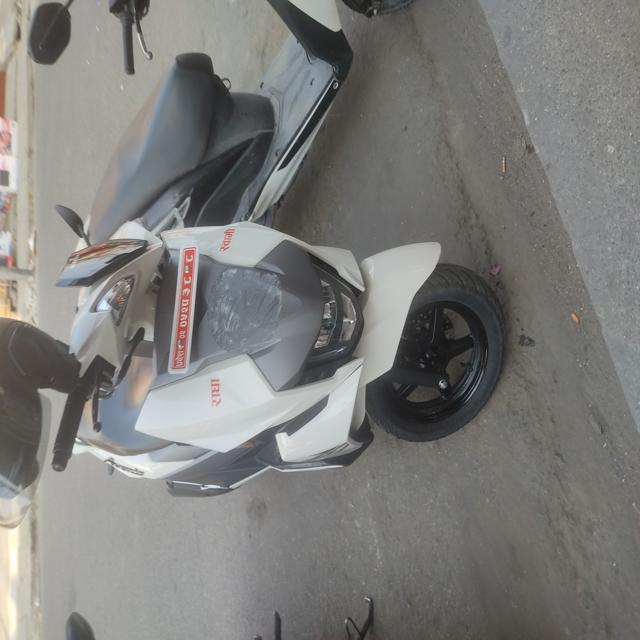license_plate: (148, 222, 209, 381)
